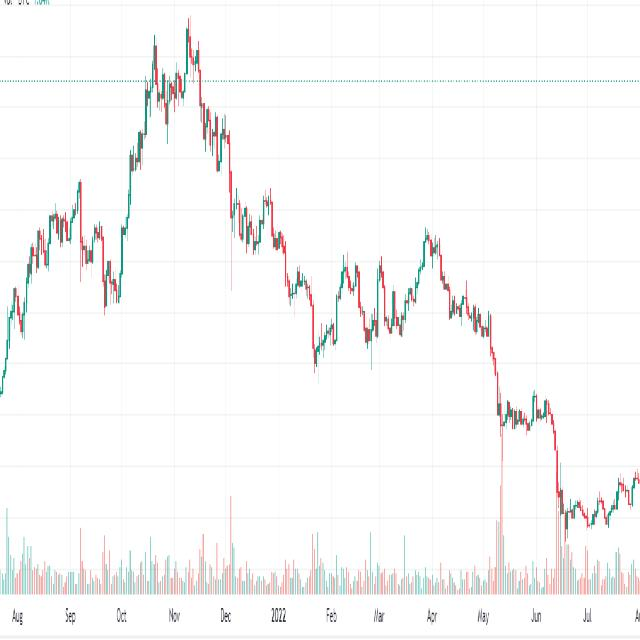rectangle: (488, 379, 562, 449)
